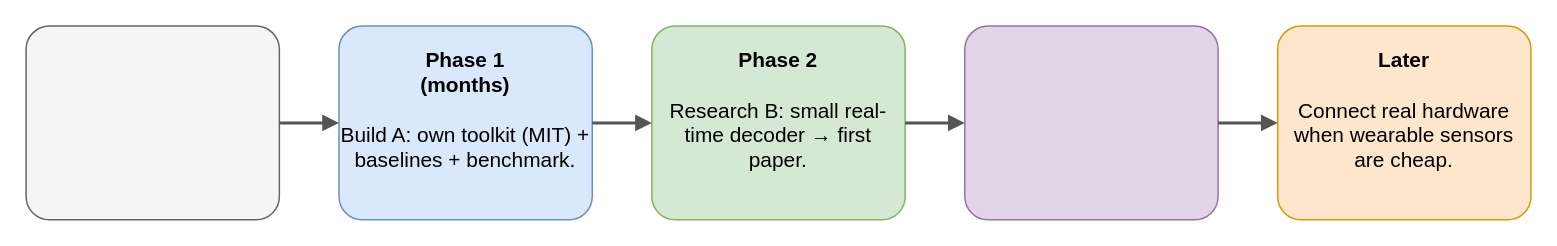
Some shapes in this 1557 by 246 pixel diagram are drawn without their labels. Here are the shapes that lost their labels. From the top down, the centre of each, then its label:
(x=152, y=122): Phase 0 (weeks) Learn. Run small models on the Spanish data.
(x=1090, y=122): Phase 3 Add C (pretraining) or D (product), based on results.
